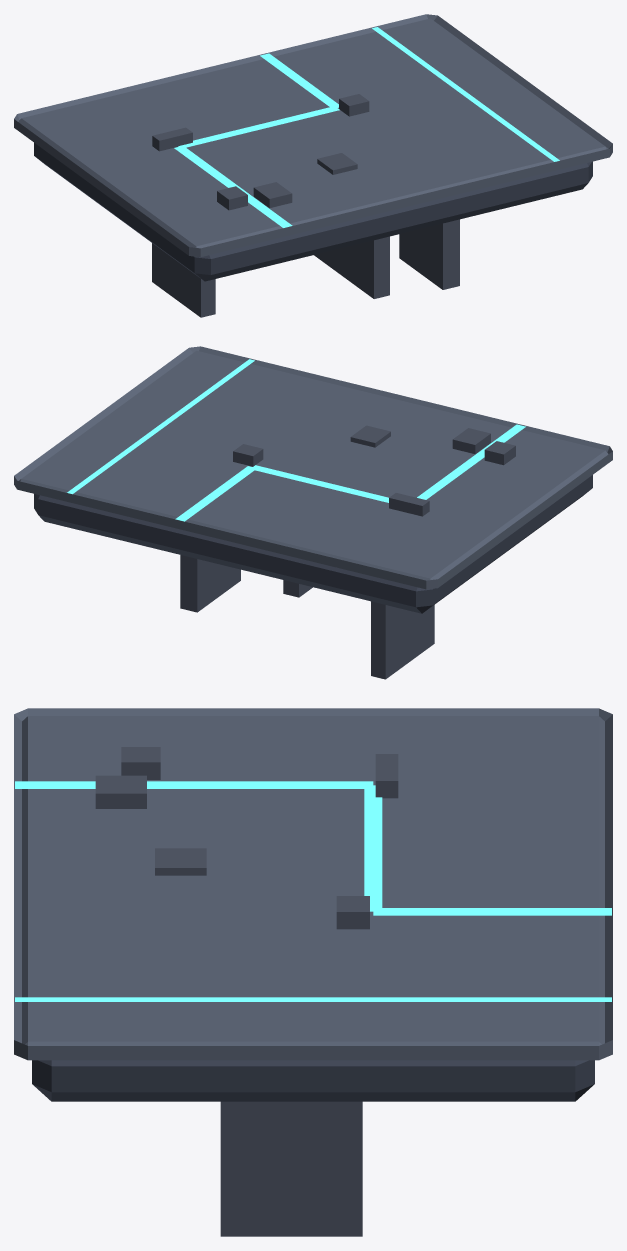
The model's file is platform_short.glb.
3 renders of one model, top to bottom at view 1: azimuth 30°, elevation 25°; view 2: azimuth 150°, elevation 25°; view 3: azimuth 270°, elevation 25°, orthographic. The views are drawn at different scales.
Visible parts, largest first — view 1: platform_short; view 2: platform_short; view 3: platform_short.
Part boxes in pixels (x1,y1,x2,y2): platform_short: (14,14,612,317); platform_short: (14,346,612,679); platform_short: (14,708,612,1236).
Bounding box in the file's own units: 4 × 1.55 × 3.
